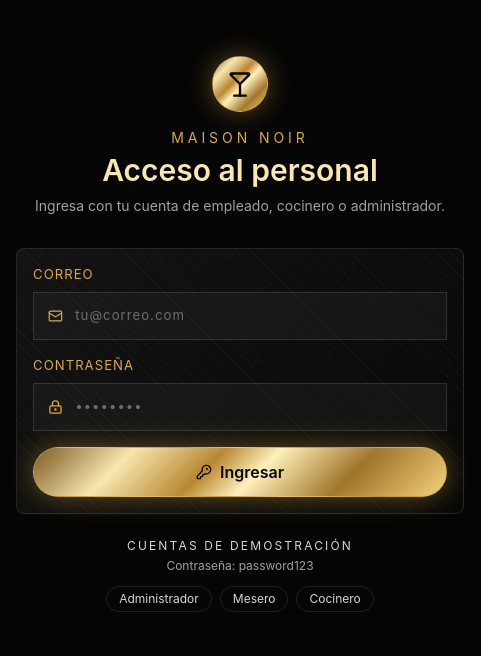
Test: LoginPage › muestra el error de credenciales y permanece en el login
The width and height of the screenshot is (481, 656).
Step 1. Type "chef@example.test" into the field labelled "Correo" → (253, 316), box top-left (75, 306), bottom-right (432, 326)
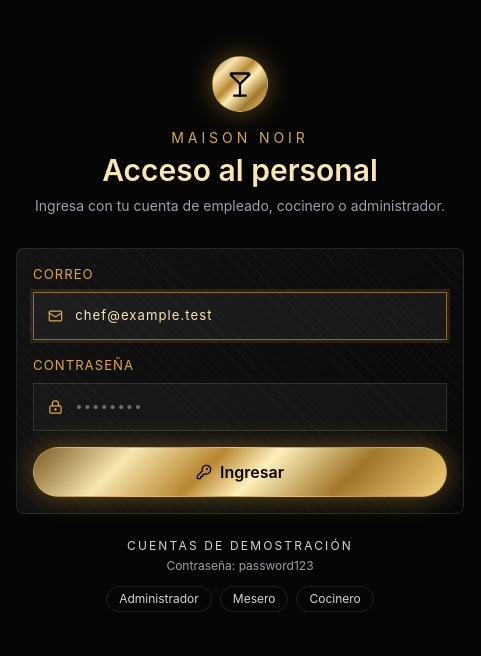
Step 2. Type "incorrecta" into the password field labelled "Contraseña" → (253, 407), box top-left (75, 397), bottom-right (432, 417)
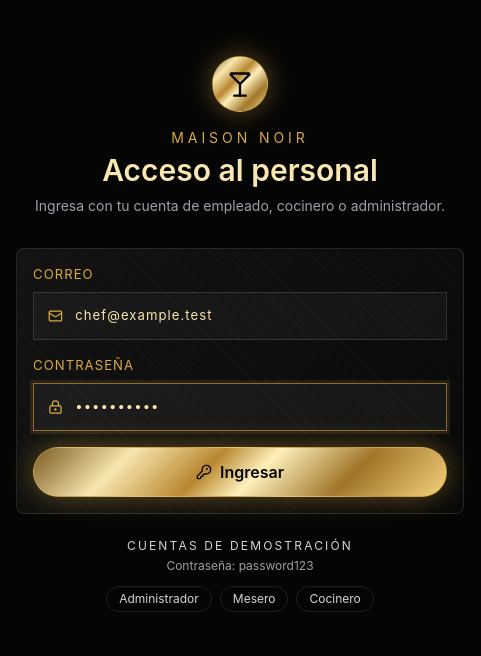
Step 3. Click the button "Ingresar" → (240, 472), box top-left (33, 447), bottom-right (447, 497)
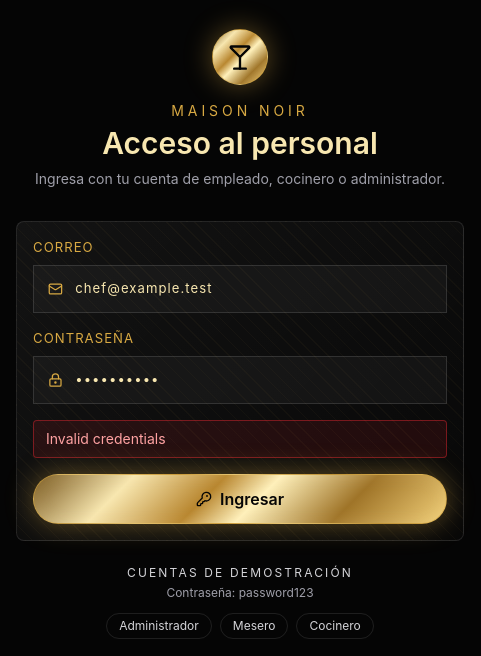
Expected: the button "Ingresar" is enabled, top-left (33, 474), bottom-right (447, 524)
Now the text "Invalid credentials" is shown, box top-left (33, 420), bottom-right (447, 458)
